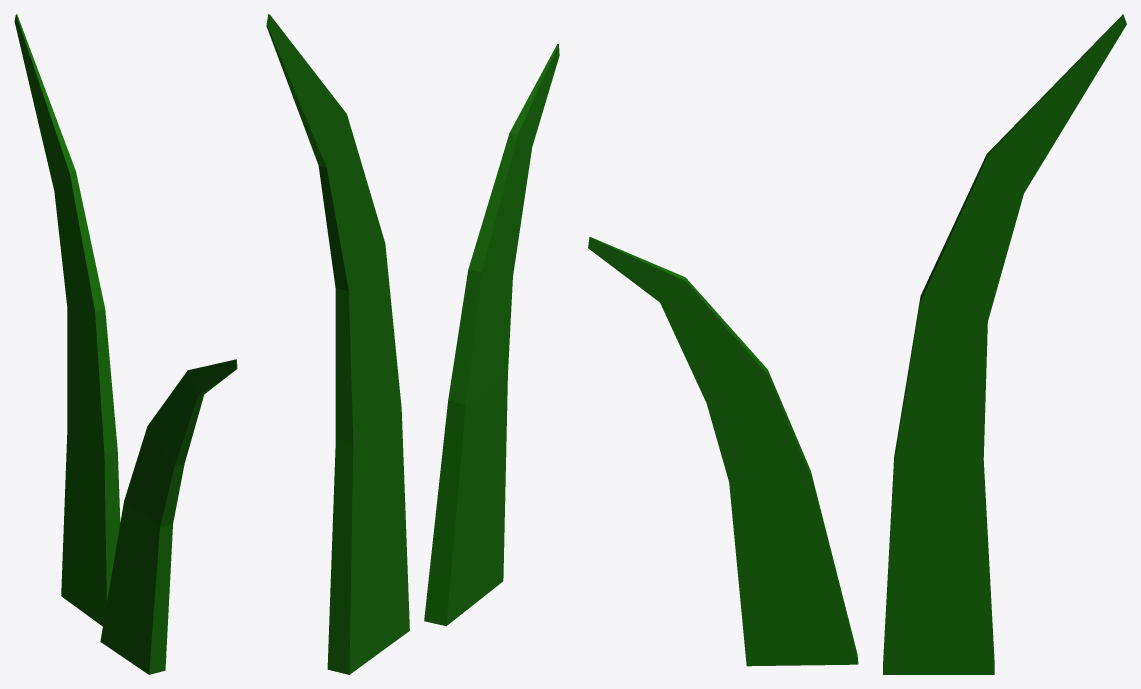
The model's file is Grass(4).fbx.
The picture shows the model from 3 angles, left to right: view 1: azimuth 30°, elevation 25°; view 2: azimuth 150°, elevation 25°; view 3: azimuth 270°, elevation 25°; orthographic projection. The views are drawn at different scales.
Visible parts, largest first — view 1: Grass(4); view 2: Grass(4); view 3: Grass(4).
Part boxes in pixels (<box>): Grass(4): <box>14,14,237,674</box>; Grass(4): <box>266,14,559,674</box>; Grass(4): <box>588,14,1126,674</box>.
Bounding box in the file's own units: 0.0402 × 0.6097 × 0.454.
